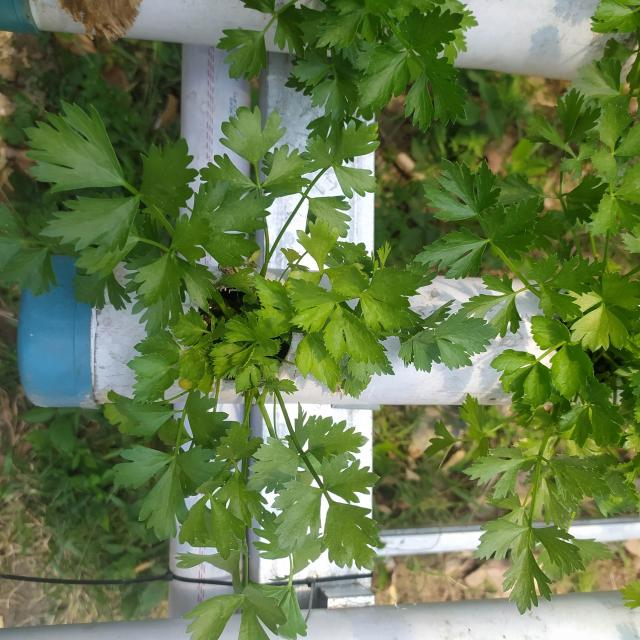Wet Waste: (168, 14, 614, 516), (3, 25, 160, 639), (164, 526, 424, 640)
